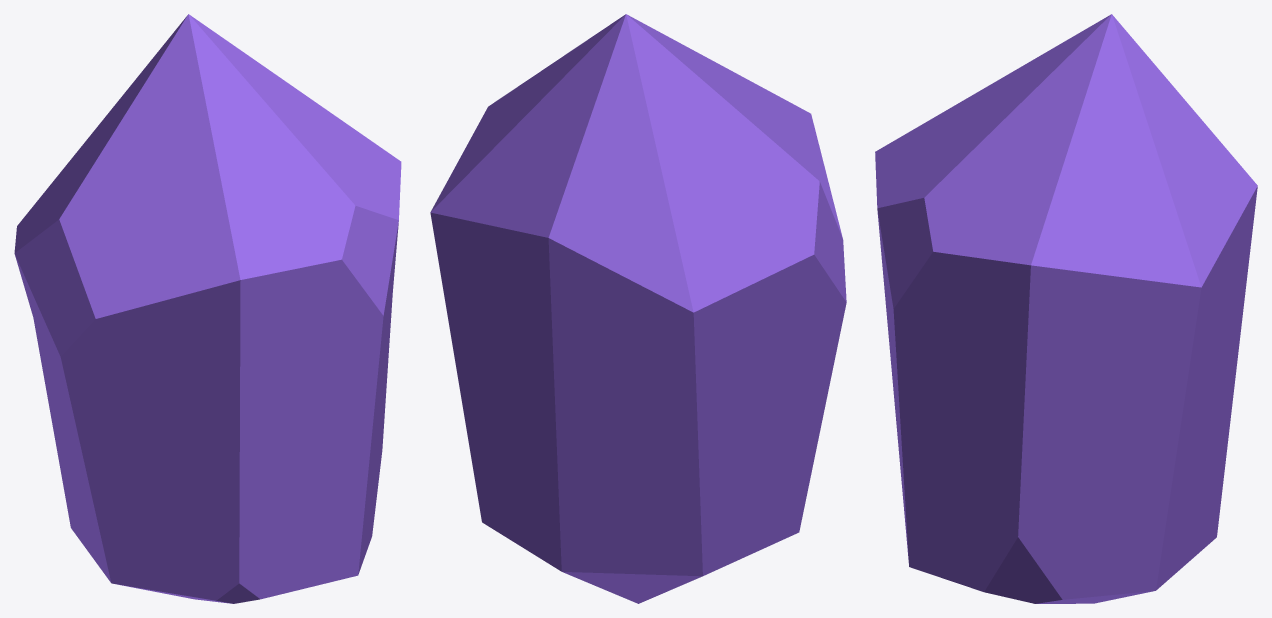
The model's file is кристалл 1.fbx.
3 views of the same model, side by side, from view 1: azimuth 30°, elevation 25°; view 2: azimuth 150°, elevation 25°; view 3: azimuth 270°, elevation 25° (orthographic). The views are drawn at different scales.
Visible parts, largest first — view 1: Cylinder; view 2: Cylinder; view 3: Cylinder.
Boxes of the visible parts, x1,y1,x2,y2 form: Cylinder: (14,14,401,603); Cylinder: (430,14,846,603); Cylinder: (875,14,1257,603).
Size of the model in its own units: 211 by 331 by 194.
